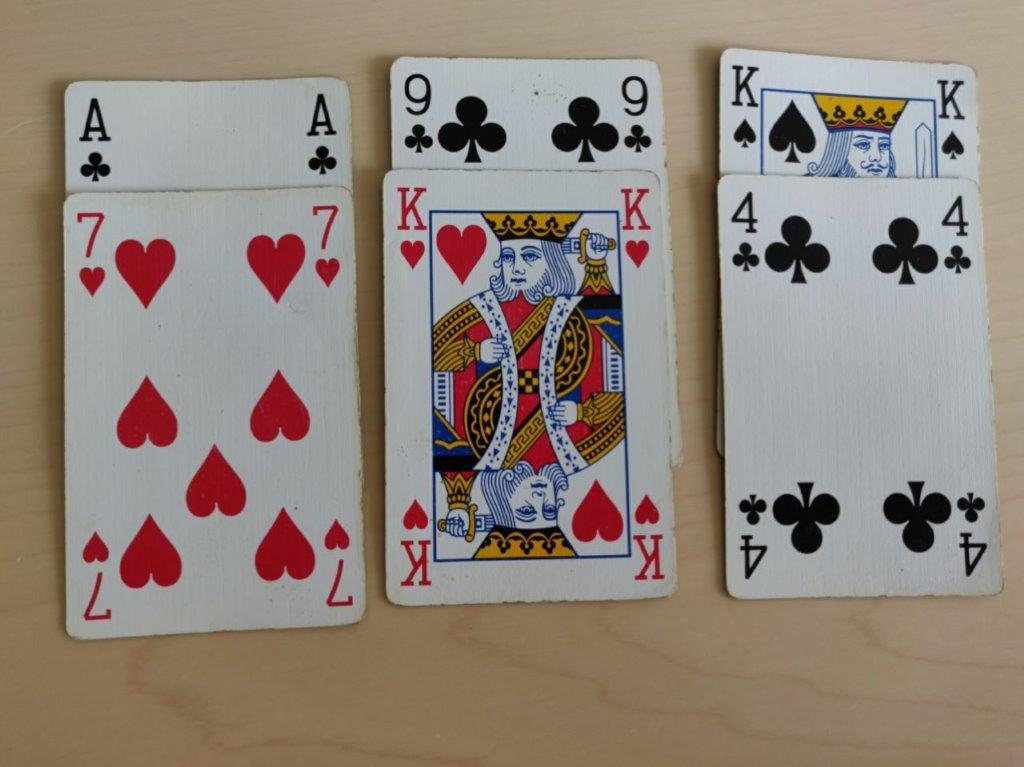4C: (726, 186, 763, 274), (939, 190, 975, 279)
7H: (305, 198, 349, 291), (70, 208, 110, 301)
9C: (618, 71, 657, 156), (399, 69, 436, 155)
AC: (72, 91, 118, 187), (300, 90, 342, 178)
KH: (615, 183, 655, 274), (393, 180, 431, 274)
KS: (726, 59, 764, 150), (932, 72, 969, 165)
